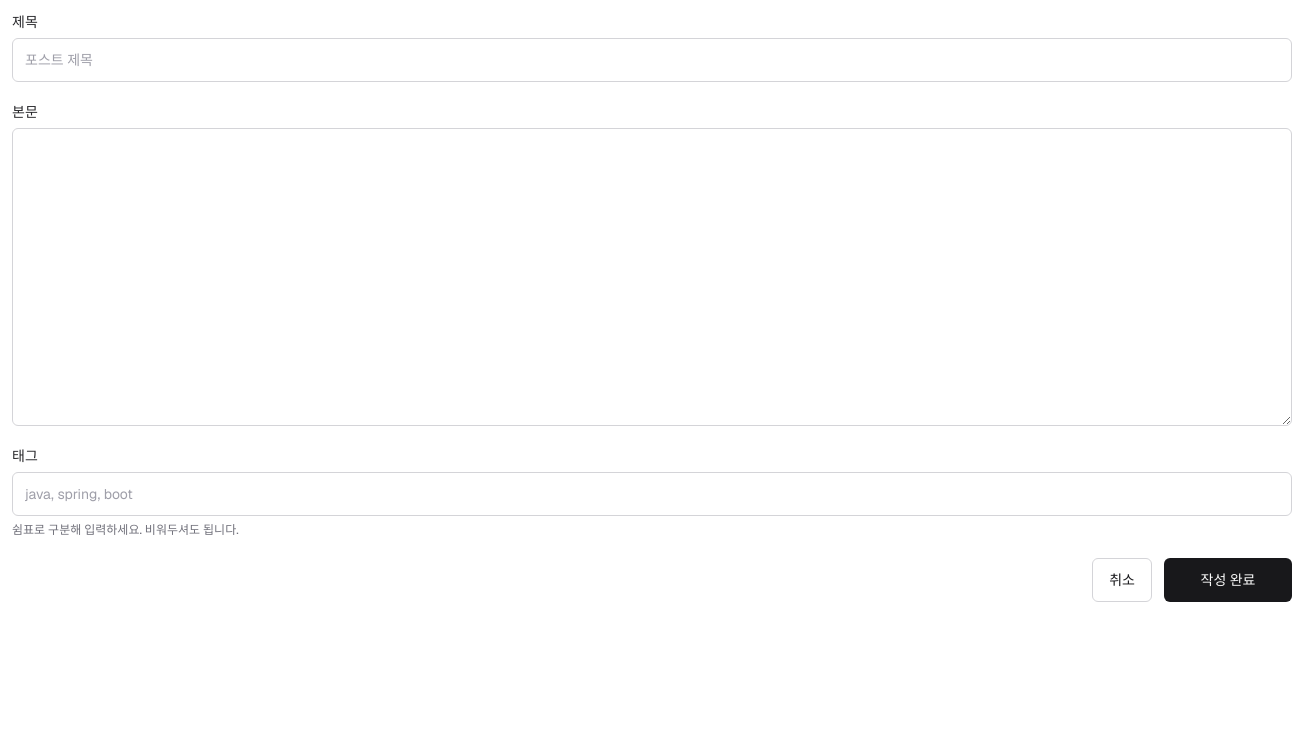
Test: <PostForm /> › content field error 가 돌아오면 textarea 에 연결된다
The width and height of the screenshot is (1304, 732).
In the field labelled "제목": (652, 60) left=12, top=38, right=1292, bottom=82, type "t"
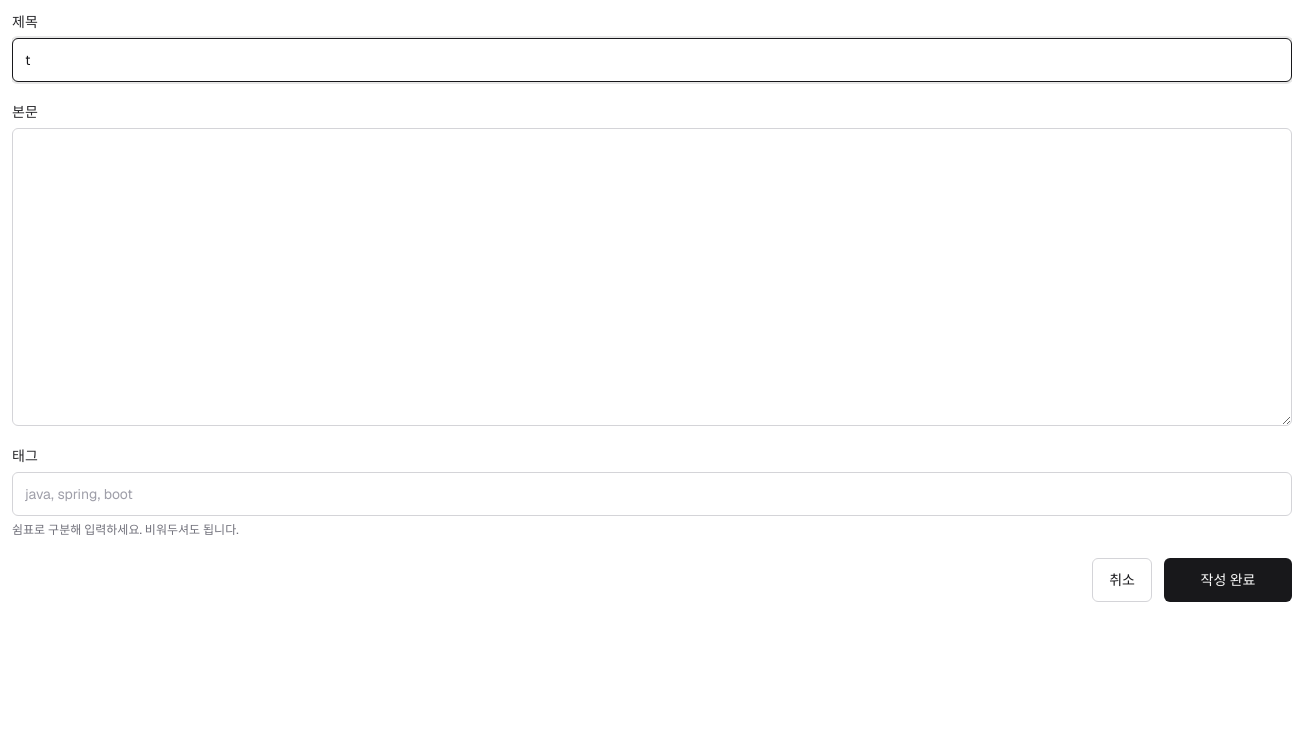
Click the button "작성 완료": (1228, 580) left=1164, top=558, right=1292, bottom=602
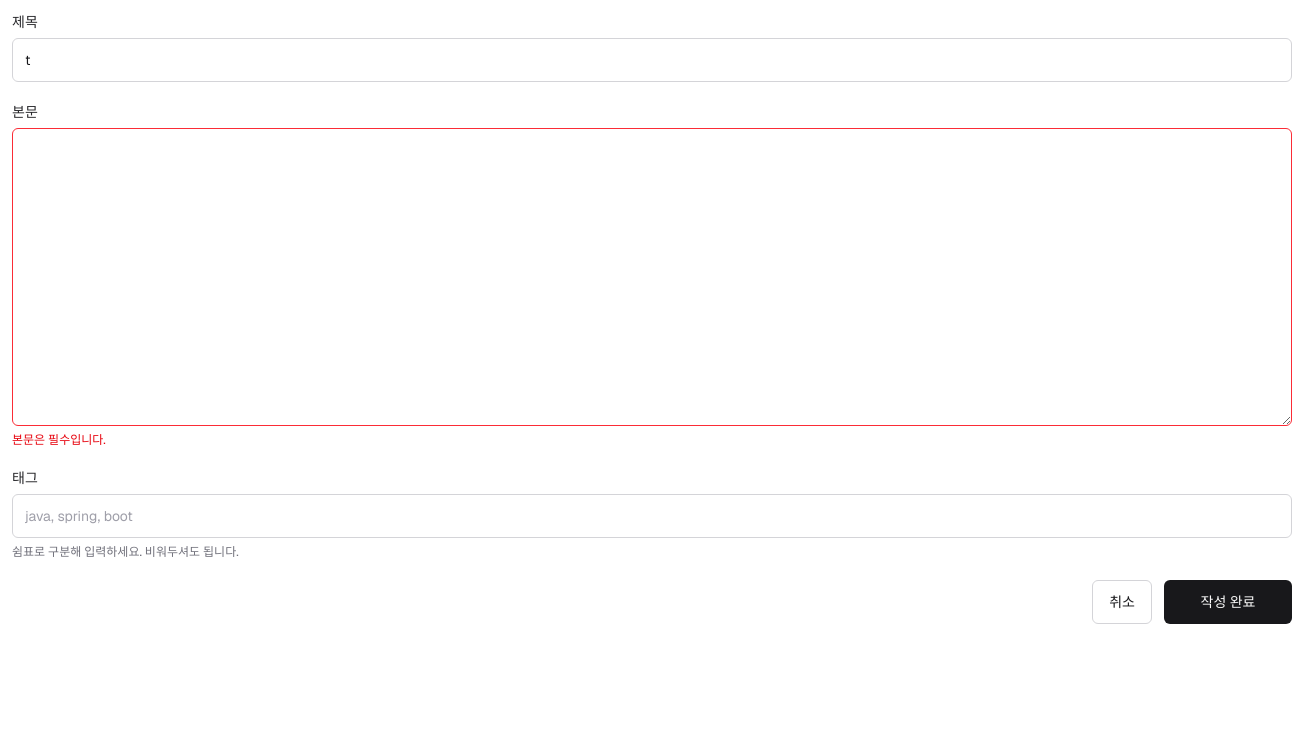
Now the text "본문은 필수입니다." is shown, box left=12, top=432, right=106, bottom=448
